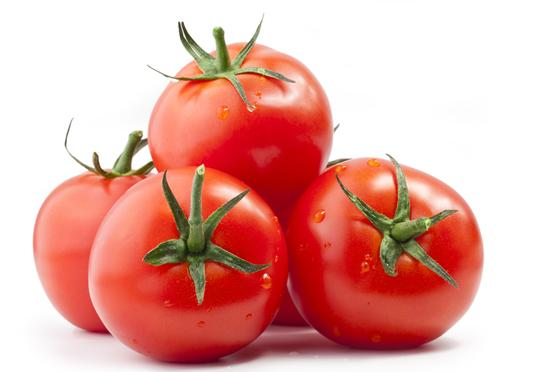tomato: (84, 164, 296, 370), (296, 154, 489, 357), (145, 34, 341, 199)
